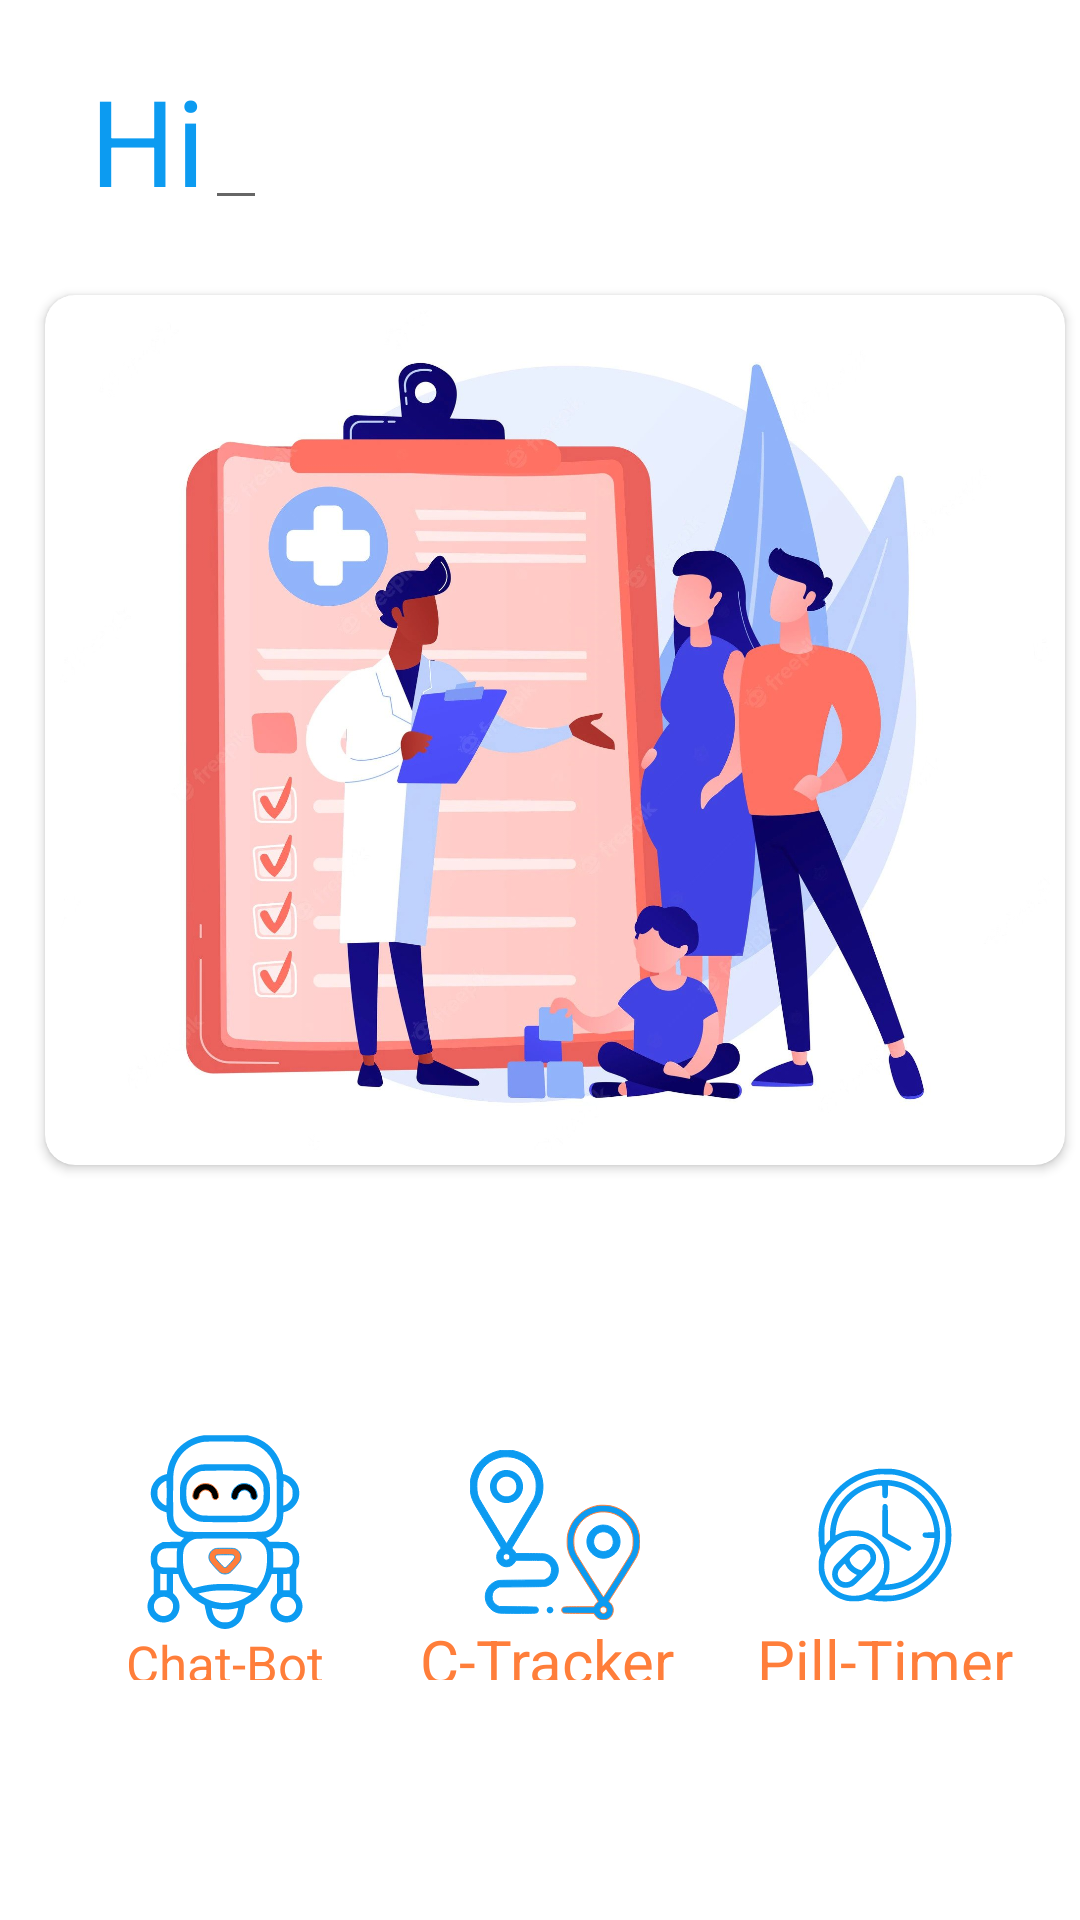

Screen size 1080 x 1920. Icon name, then its center in pixels as point (x, y):
clock: point (885, 1535)
robot: point (225, 1532)
route: point (555, 1535)
